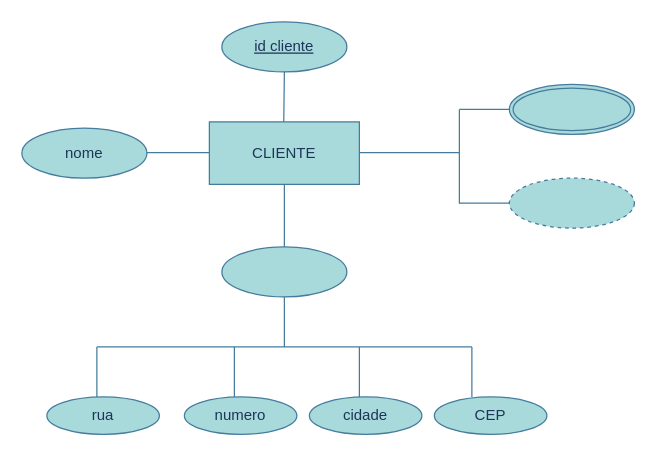
Image size: 656x456. Some labels were removed from this diagram. Each missing label, with the box of its shape:
endereço: (221, 246, 347, 297)
idade: (508, 177, 634, 228)
telefones: (508, 83, 634, 134)
